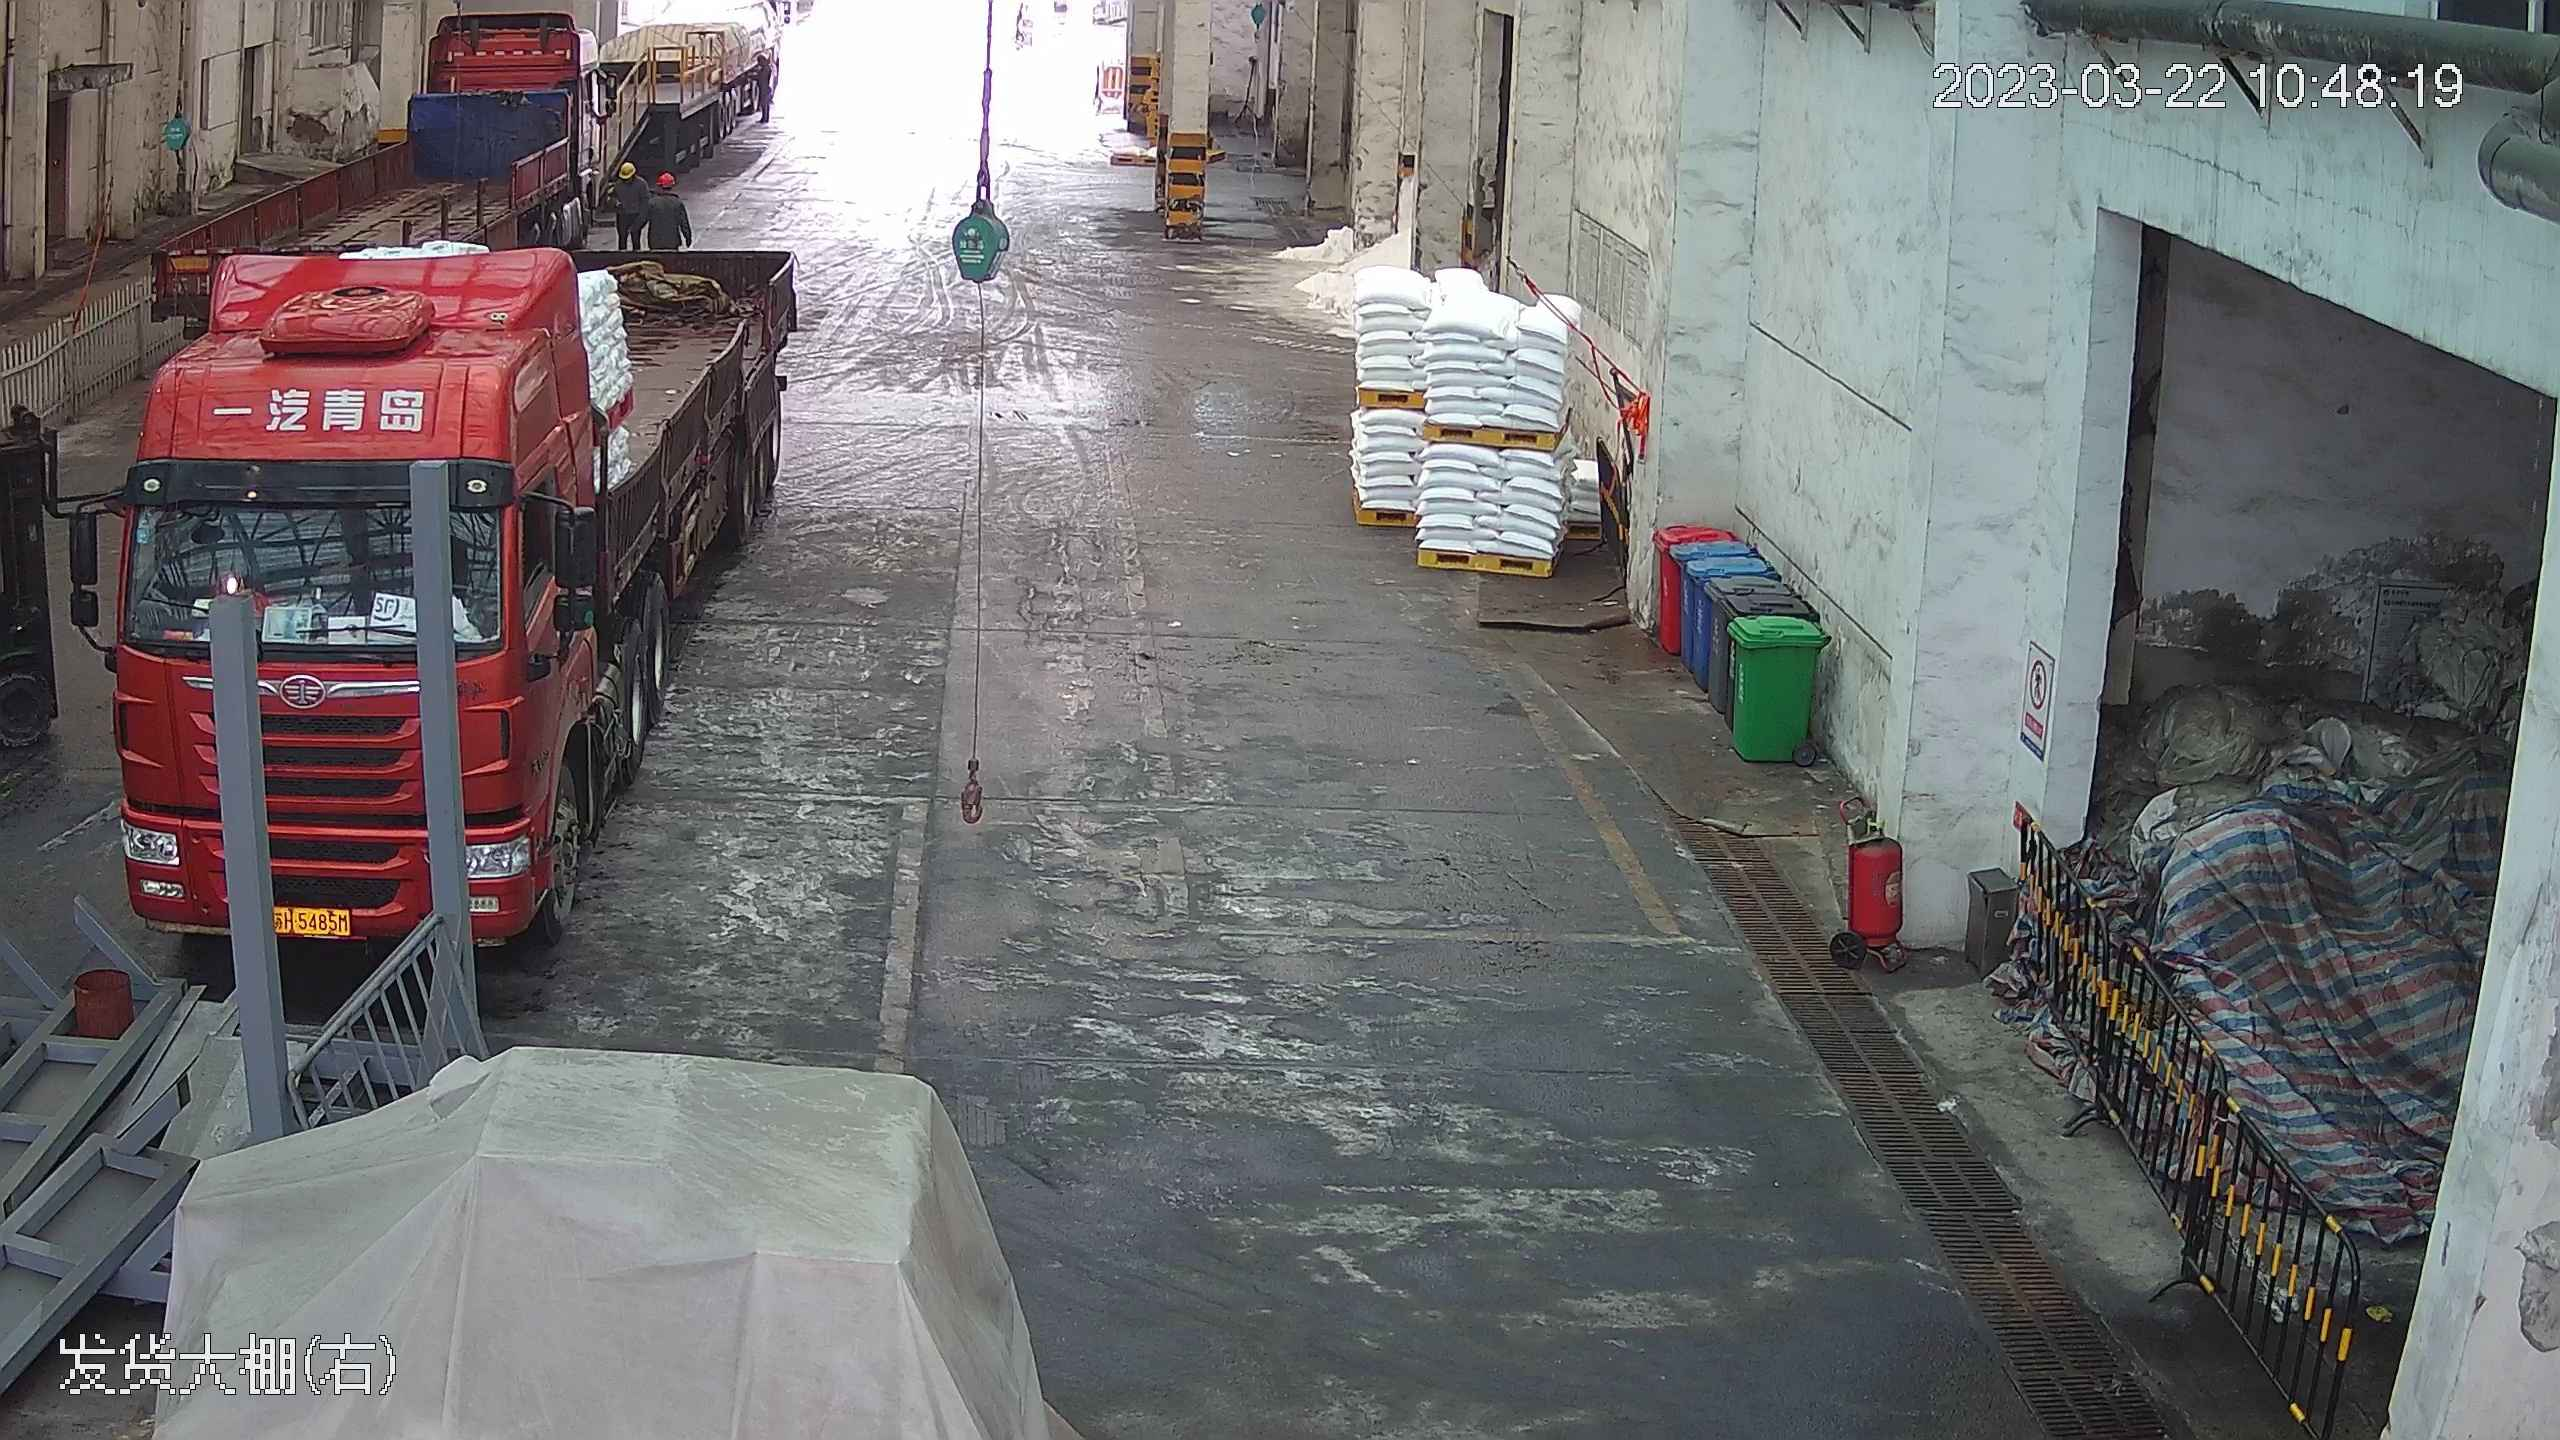head: (645, 168, 685, 215), (617, 163, 646, 195)
helmet: (655, 170, 677, 188), (617, 162, 635, 181)
people: (645, 167, 689, 263), (614, 164, 650, 267)
truck: (73, 243, 786, 961), (128, 8, 623, 416)
